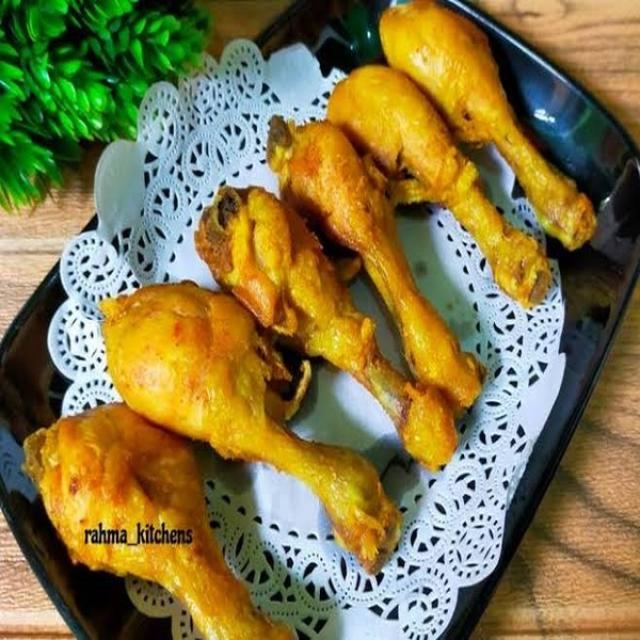CHICKEN FRY: (94, 0, 595, 577)
